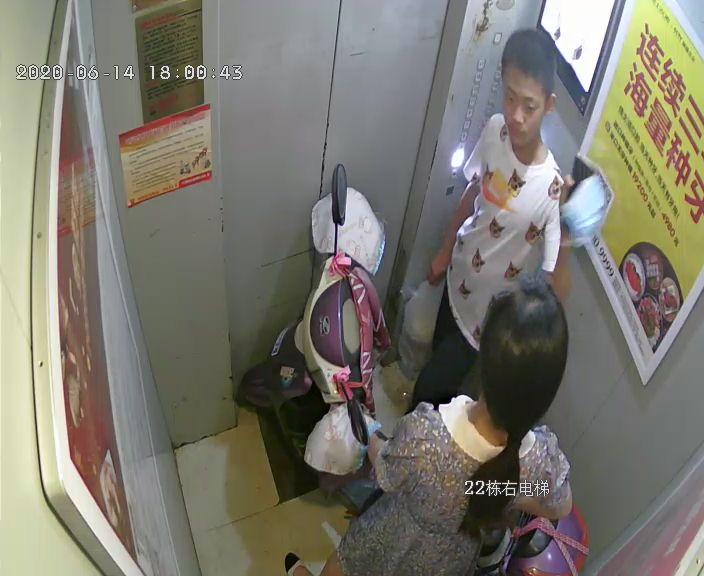Electric-bicycle: (292, 161, 590, 574)
